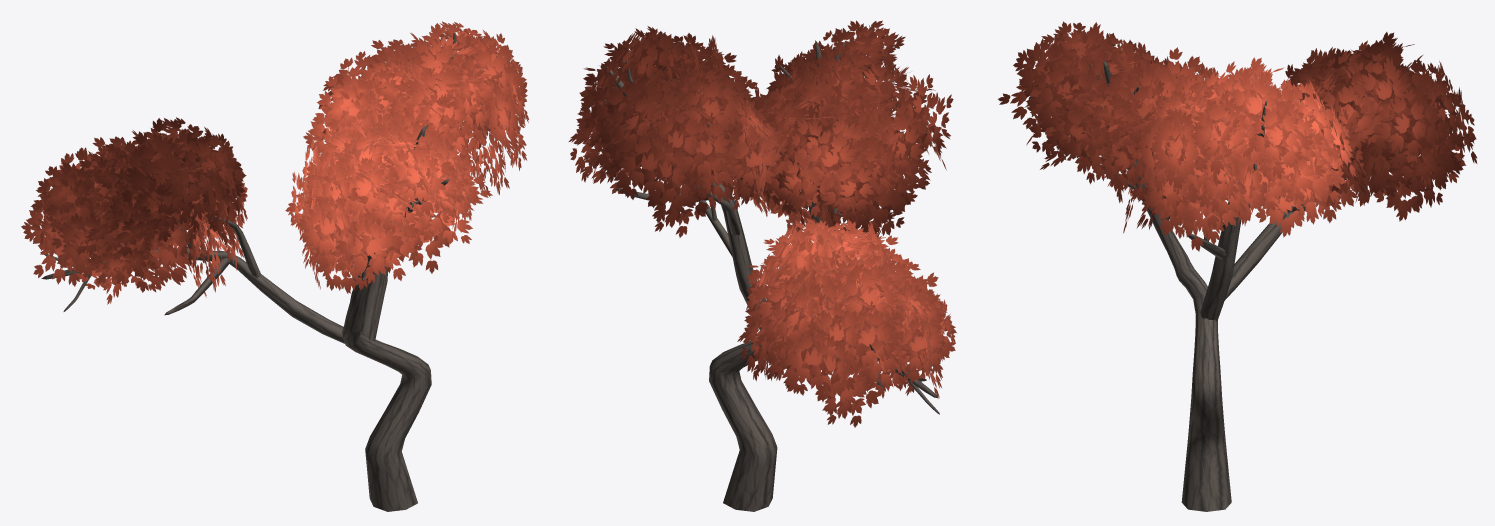
File: MapleTree_2.gltf
The picture shows the model from 3 angles, left to right: view 1: azimuth 30°, elevation 25°; view 2: azimuth 150°, elevation 25°; view 3: azimuth 270°, elevation 25°; orthographic projection. The views are drawn at different scales.
Parts seen in each view (by area): view 1: MapleTree_2; view 2: MapleTree_2; view 3: MapleTree_2.
Boxes of the visible parts, <box> form: MapleTree_2: <box>21,21,529,511</box>; MapleTree_2: <box>568,20,956,511</box>; MapleTree_2: <box>998,21,1477,511</box>.
Size of the model in its own units: 6.7 by 6.71 by 6.24.
2 materials, 2 textured.
